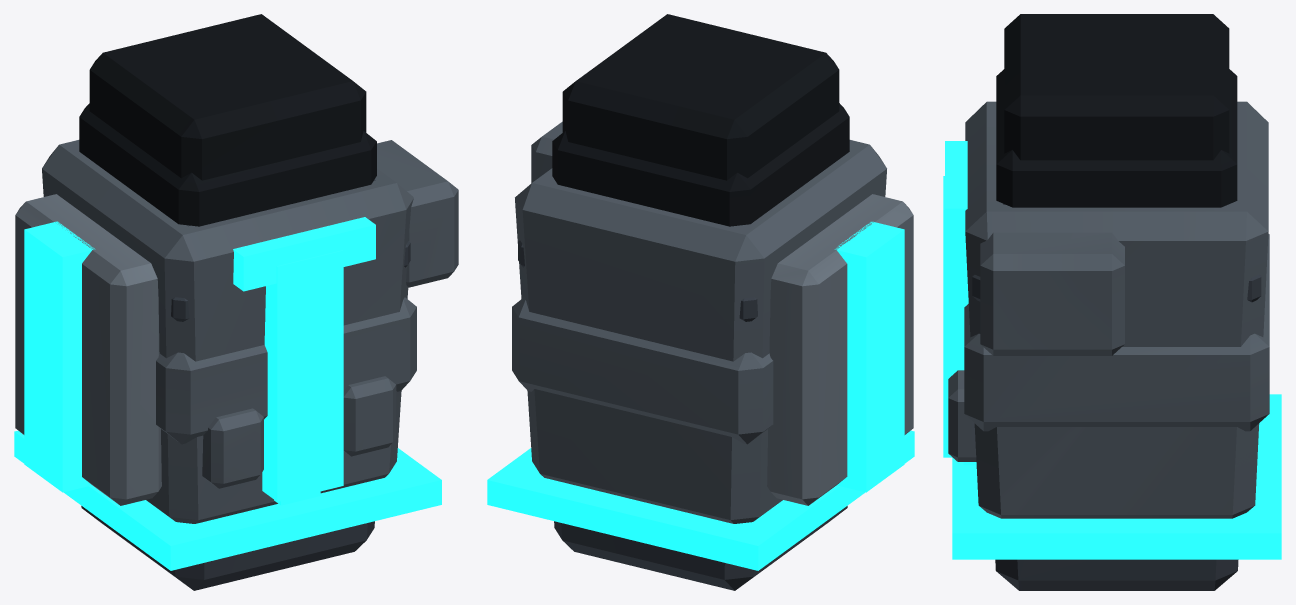
The model's file is arm.R.cyber.glb.
3 renders of one model, left to right at view 1: azimuth 30°, elevation 25°; view 2: azimuth 150°, elevation 25°; view 3: azimuth 270°, elevation 25°, orthographic. The views are drawn at different scales.
Visible parts, largest first — view 1: forearm.R@cyber.base, forearm.R@cyber.emissive.cyan, arm.R@cyber.base, hand.R@cyber.base, hand.R@cyber.emissive.cyan; view 2: forearm.R@cyber.base, arm.R@cyber.base, forearm.R@cyber.emissive.cyan, hand.R@cyber.base; view 3: forearm.R@cyber.base, arm.R@cyber.base, forearm.R@cyber.emissive.cyan, hand.R@cyber.base, hand.R@cyber.emissive.cyan.
Boxes of the visible parts, bbox=[...] form: forearm.R@cyber.base: bbox=[15, 14, 413, 523]; forearm.R@cyber.emissive.cyan: bbox=[14, 221, 441, 570]; arm.R@cyber.base: bbox=[79, 103, 416, 590]; hand.R@cyber.base: bbox=[187, 140, 458, 488]; hand.R@cyber.emissive.cyan: bbox=[233, 217, 375, 291]; forearm.R@cyber.base: bbox=[515, 14, 913, 523]; arm.R@cyber.base: bbox=[512, 103, 849, 590]; forearm.R@cyber.emissive.cyan: bbox=[487, 221, 914, 570]; hand.R@cyber.base: bbox=[531, 121, 562, 182]; forearm.R@cyber.base: bbox=[965, 14, 1268, 518]; arm.R@cyber.base: bbox=[964, 69, 1269, 590]; forearm.R@cyber.emissive.cyan: bbox=[943, 176, 1281, 559]; hand.R@cyber.base: bbox=[948, 203, 1124, 461]; hand.R@cyber.emissive.cyan: bbox=[945, 141, 967, 245].
Bounding box in the file's own units: 0.2695 × 0.34 × 0.2105.
